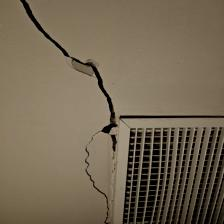Medium: (18, 1, 119, 137)
